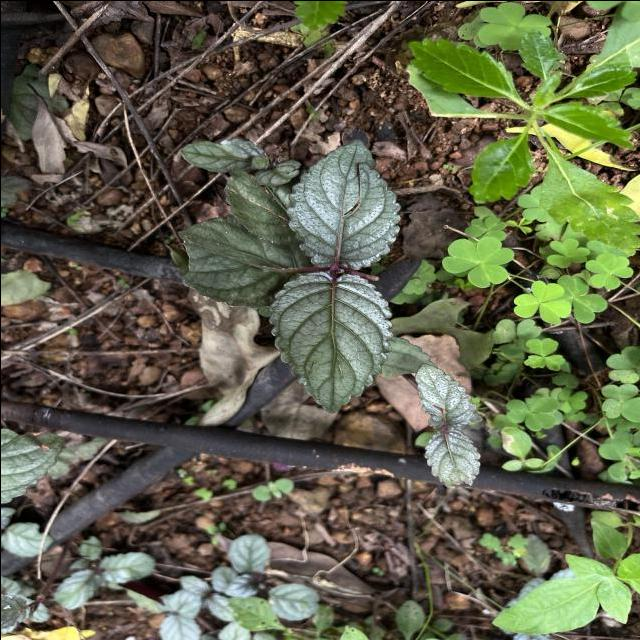Hemigraphis colorata: (266, 269, 396, 417), (283, 136, 404, 273), (172, 208, 306, 310), (410, 360, 484, 426), (421, 425, 482, 490)
